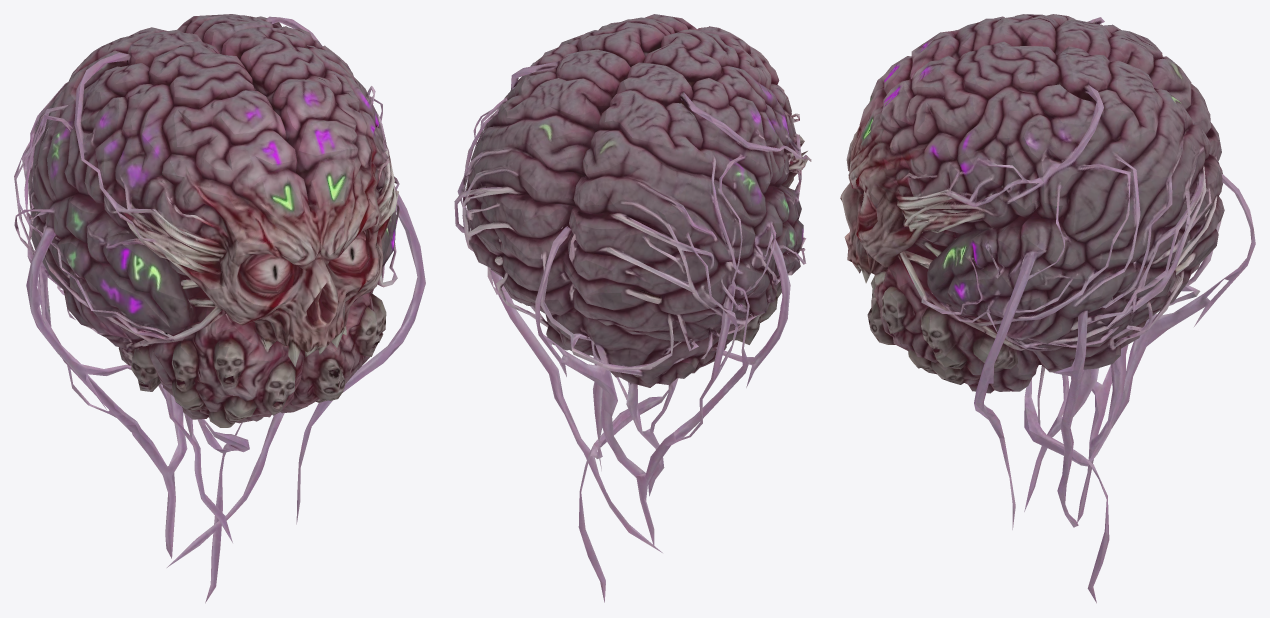
File: animated.glb
3 views of the same model, side by side, from view 1: azimuth 30°, elevation 25°; view 2: azimuth 150°, elevation 25°; view 3: azimuth 270°, elevation 25° (orthographic). The views are drawn at different scales.
Parts seen in each view (by area): view 1: BrainMotion; view 2: BrainMotion; view 3: BrainMotion.
Part boxes in pixels (bbox=[...]): BrainMotion: bbox=[14, 14, 425, 603]; BrainMotion: bbox=[454, 14, 811, 602]; BrainMotion: bbox=[840, 14, 1255, 603].
Size of the model in its own units: 1.12 by 1.8 by 1.2.
Materials: 1 (1 with a texture image).
